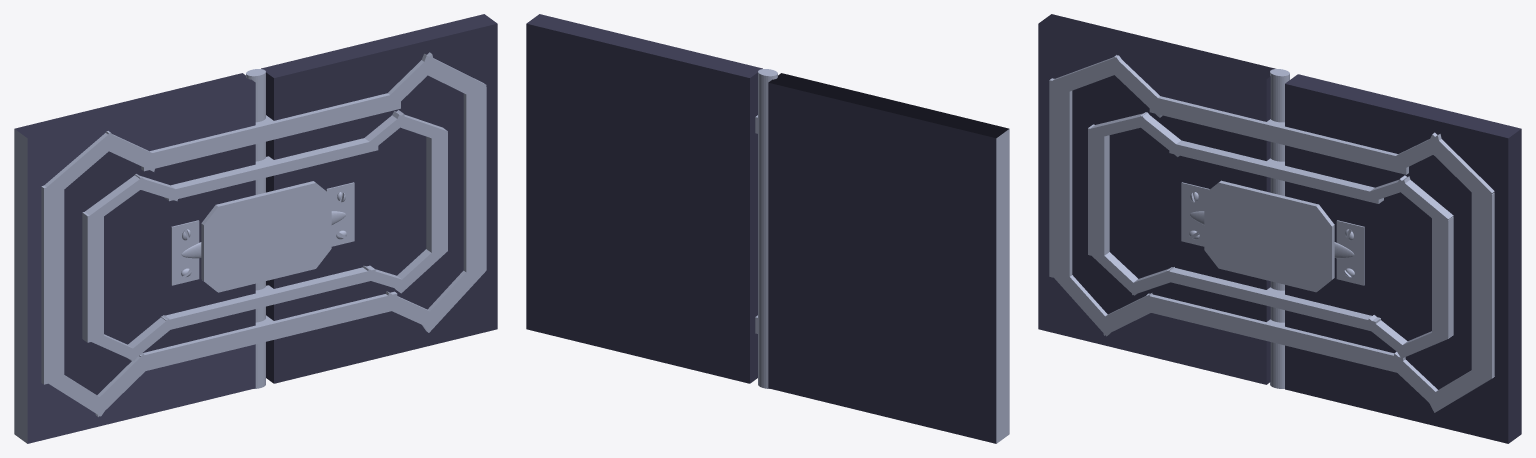
File: FrostTrapOptimize.fbx
3 views of the same model, side by side, from view 1: azimuth 30°, elevation 25°; view 2: azimuth 150°, elevation 25°; view 3: azimuth 330°, elevation 25° (orthographic).
Parts seen in each view (by area): view 1: Base; view 2: Base; view 3: Base.
Part boxes in pixels (x1,y1,x2,y2): Base: (14, 14, 497, 443); Base: (526, 14, 1009, 443); Base: (1038, 14, 1521, 443).
Size of the model in its own units: 10300 by 6550 by 700.
